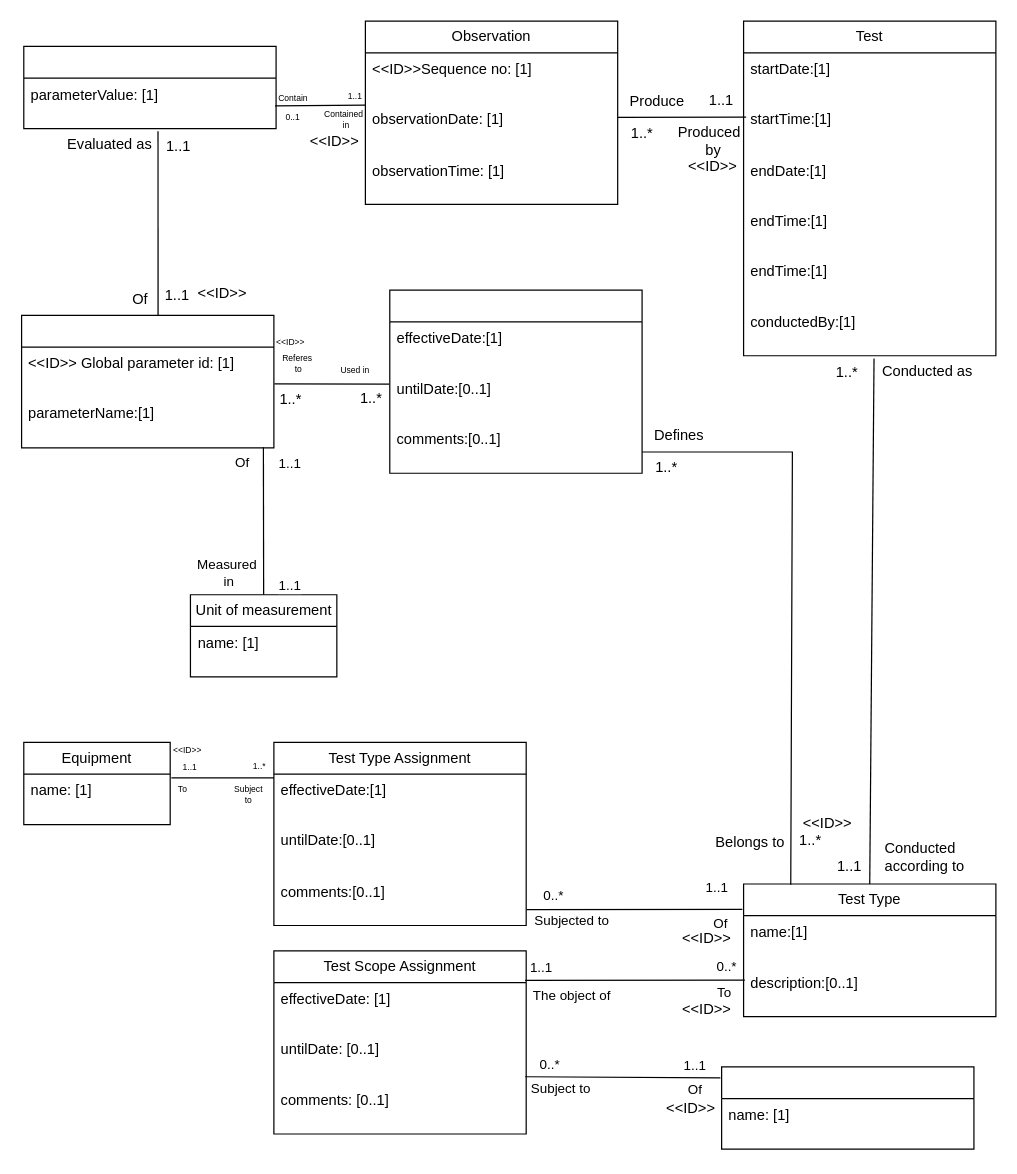
Some shapes in this 1017 by 1174 pixel diagram are drawn without their labels. The box of each missing label's shape, as (x1, y1, x2, y2) in pixels:
Test parameter: (20, 314, 274, 448)
Test parameter Assignment: (389, 289, 642, 473)
Test parameter value: (23, 45, 276, 129)
Test Scope: (720, 1066, 974, 1149)
